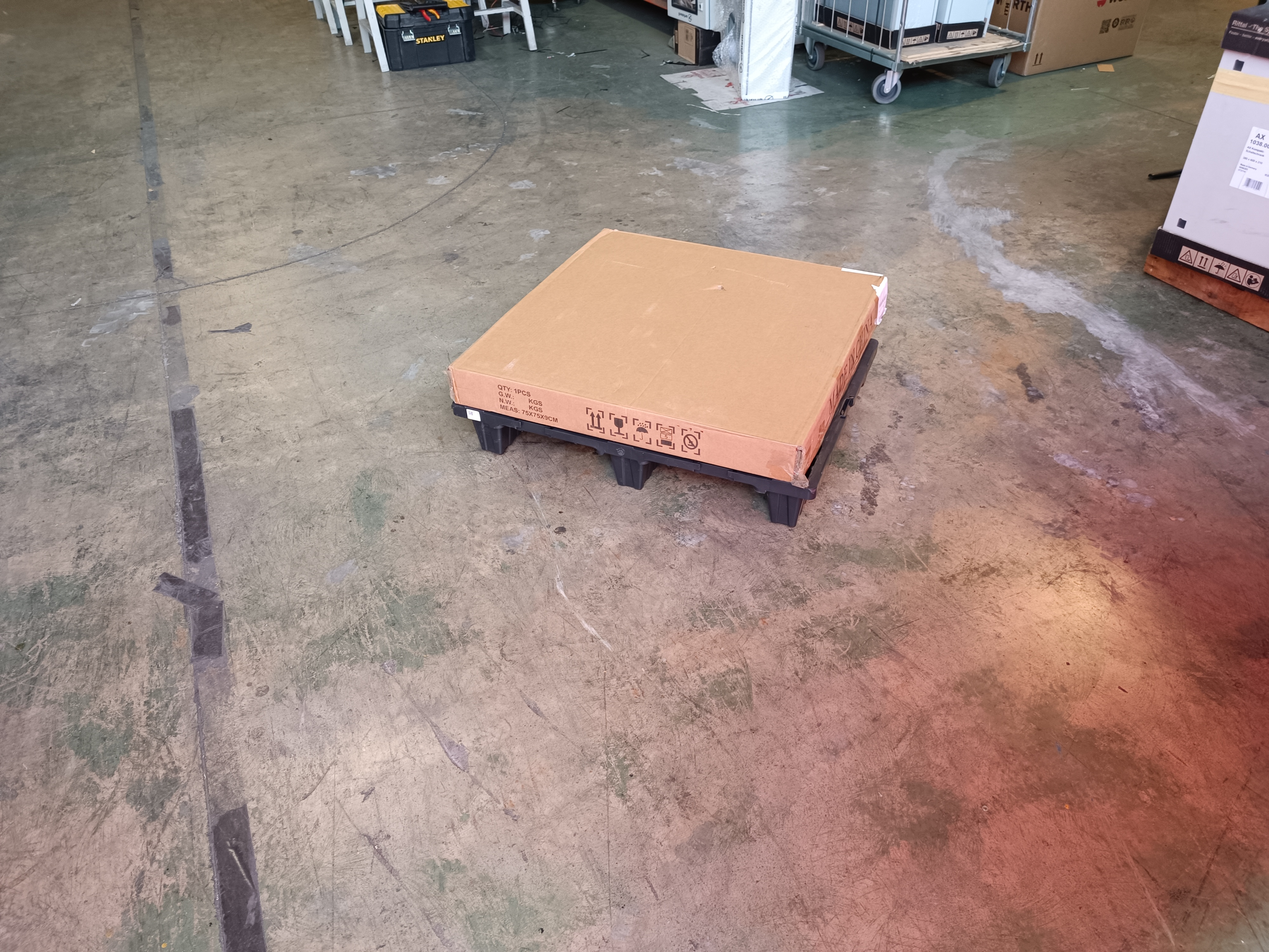block: (457, 407, 519, 459), (603, 441, 652, 487), (757, 484, 805, 530)
front: (454, 407, 811, 543)
hole pallet: (636, 462, 763, 524), (504, 430, 612, 489)
